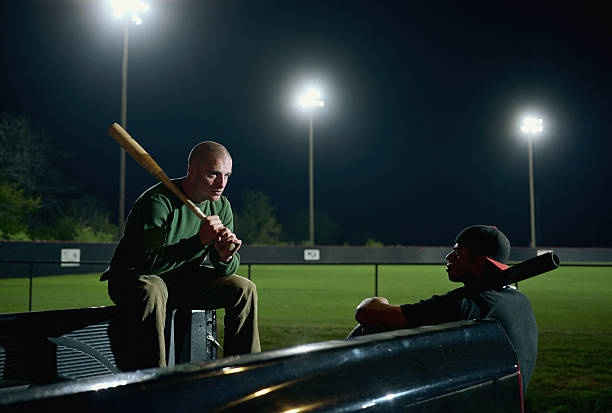bita: (107, 121, 217, 228)
